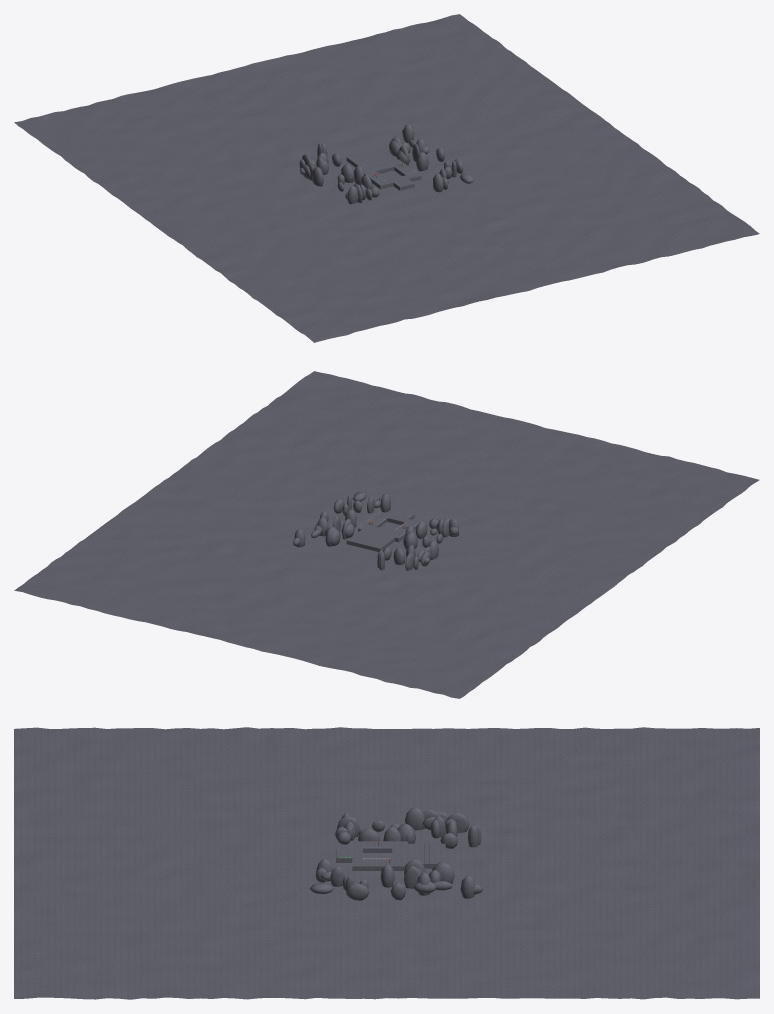
Rendered from fog_canyon.glb.
The picture shows the model from 3 angles, top to bottom: view 1: azimuth 30°, elevation 25°; view 2: azimuth 150°, elevation 25°; view 3: azimuth 270°, elevation 25°; orthographic projection. The views are drawn at different scales.
Parts seen in each view (by area): view 1: Fog lunar basalt; view 2: Fog lunar basalt; view 3: Fog lunar basalt.
Part boxes in pixels (x1,y1,x2,y2): Fog lunar basalt: [14, 14, 759, 342]; Fog lunar basalt: [14, 371, 759, 698]; Fog lunar basalt: [14, 727, 759, 999].
Size of the model in its own units: 480 by 23.97 by 560.
Materials: 5 (1 with a texture image).
